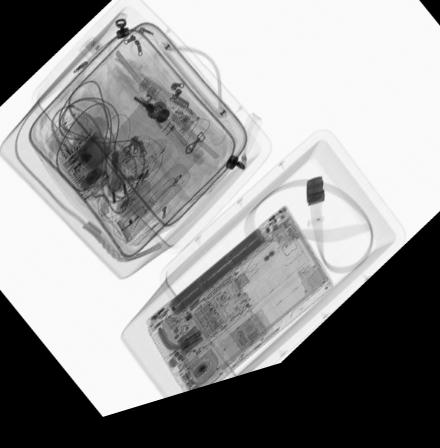Lighter: (126, 176, 150, 206)
